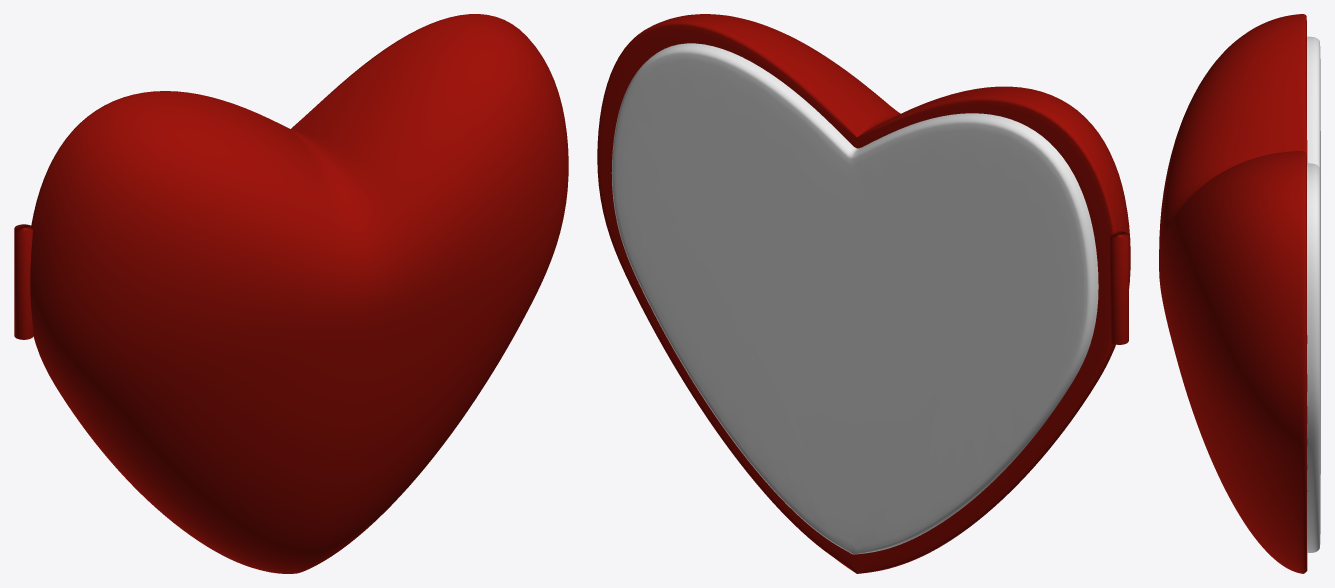
File: locket.glb
3 renders of one model, left to right at view 1: azimuth 30°, elevation 25°; view 2: azimuth 150°, elevation 25°; view 3: azimuth 270°, elevation 25°, orthographic. The views are drawn at different scales.
Parts seen in each view (by area): view 1: SurfSphere, Cylinder; view 2: SurfSphere.001, SurfSphere, Cylinder; view 3: SurfSphere, SurfSphere.001.
Part boxes in pixels (bbox=[...]): SurfSphere: bbox=[30, 14, 568, 573]; Cylinder: bbox=[14, 224, 33, 339]; SurfSphere.001: bbox=[611, 43, 1098, 554]; SurfSphere: bbox=[597, 14, 1130, 573]; Cylinder: bbox=[1110, 231, 1128, 344]; SurfSphere: bbox=[1159, 14, 1307, 573]; SurfSphere.001: bbox=[1307, 36, 1320, 552].
Bounding box in the file's own units: 4.69 × 4.29 × 1.33.
